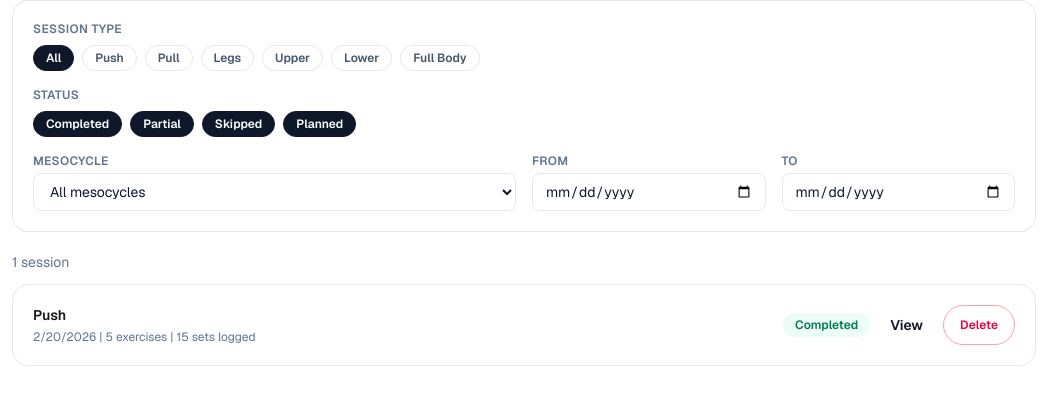
Scenario: HistoryClient › empty state provides a Reset filters button that re-fetches
// Apply a filter to get into empty state
Click the button "Pull". click: (169, 58)
box: [145,45,192,71]
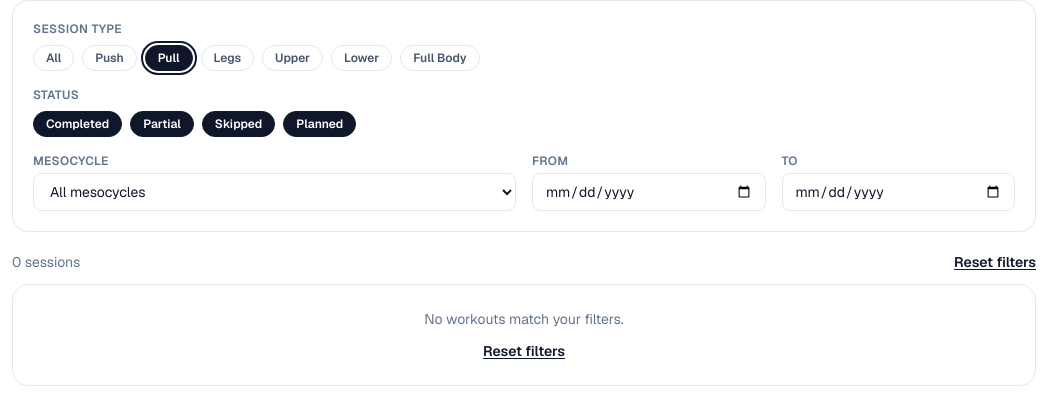
expect the text "No workouts match your filters." is shown: met, box [424,310,624,328]
Click the 1st button "Reset filters". click: (995, 262)
box: [954,252,1036,272]
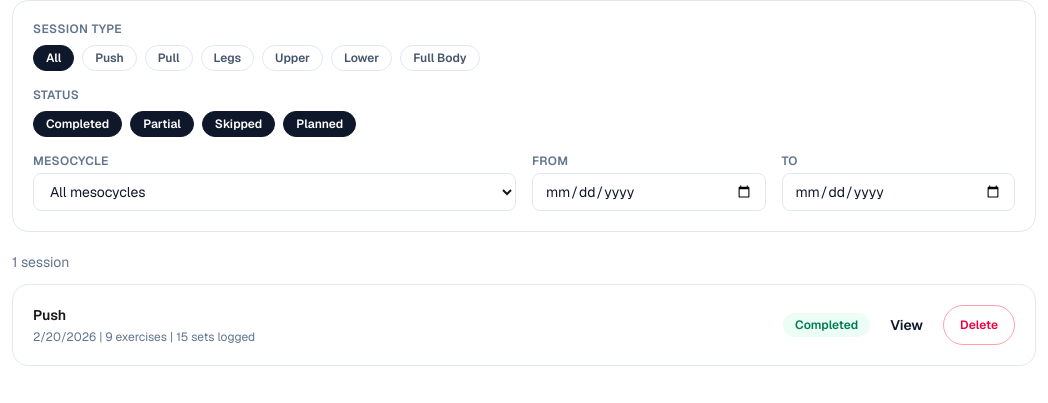
expect the text "2/20/2026 | 9 exercises | 15 sets logged" is shown: met, box [33,329,255,345]
